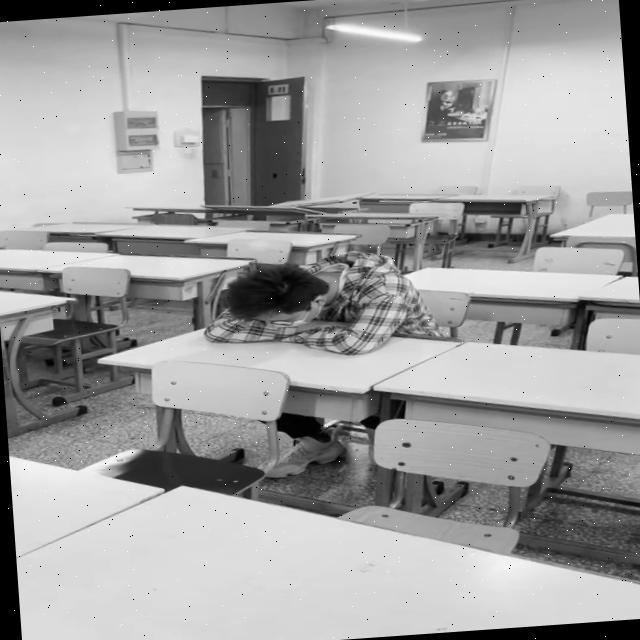sleep: (183, 244, 442, 367)
